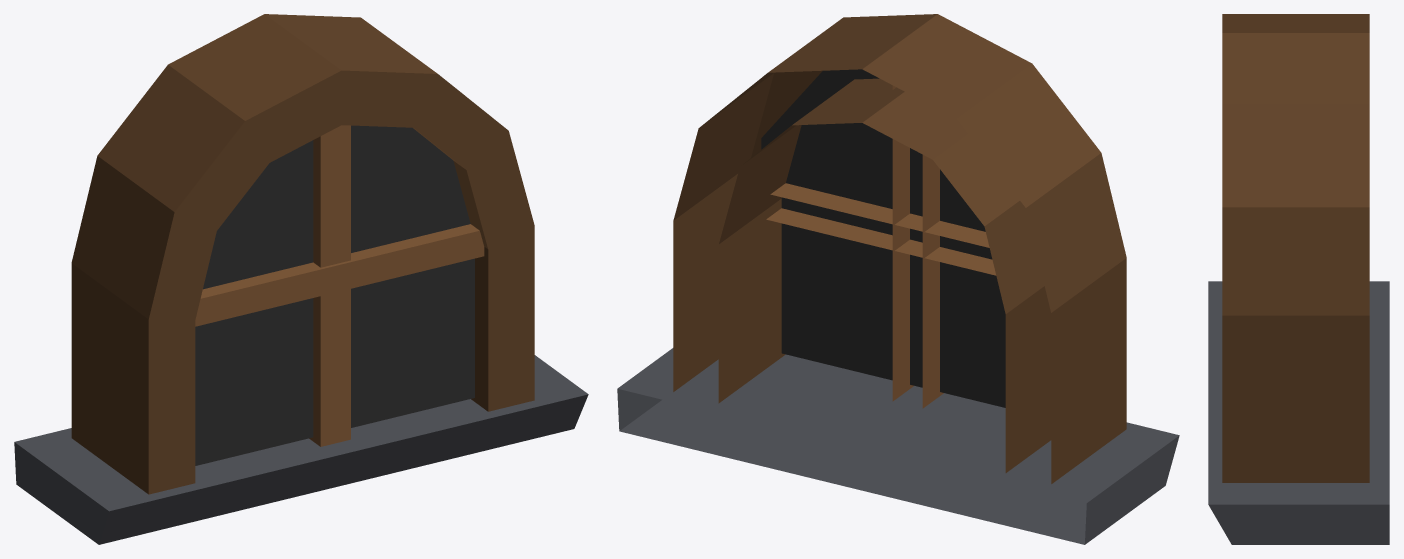
Rendered from Window_2.glb.
3 views of the same model, side by side, from view 1: azimuth 30°, elevation 25°; view 2: azimuth 150°, elevation 25°; view 3: azimuth 270°, elevation 25° (orthographic). The views are drawn at different scales.
Parts seen in each view (by area): view 1: Window_2_Cylinder.022; view 2: Window_2_Cylinder.022; view 3: Window_2_Cylinder.022.
Boxes of the visible parts, x1=… form: Window_2_Cylinder.022: x1=14, y1=14, x2=588, y2=544; Window_2_Cylinder.022: x1=617, y1=14, x2=1179, y2=544; Window_2_Cylinder.022: x1=1208, y1=14, x2=1389, y2=544.
Size of the model in its own units: 0.447 by 0.3742 by 0.1532.
